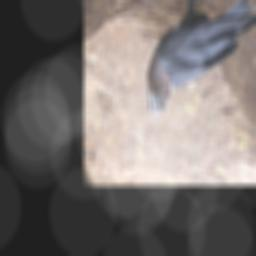Crow: (147, 0, 256, 116)
